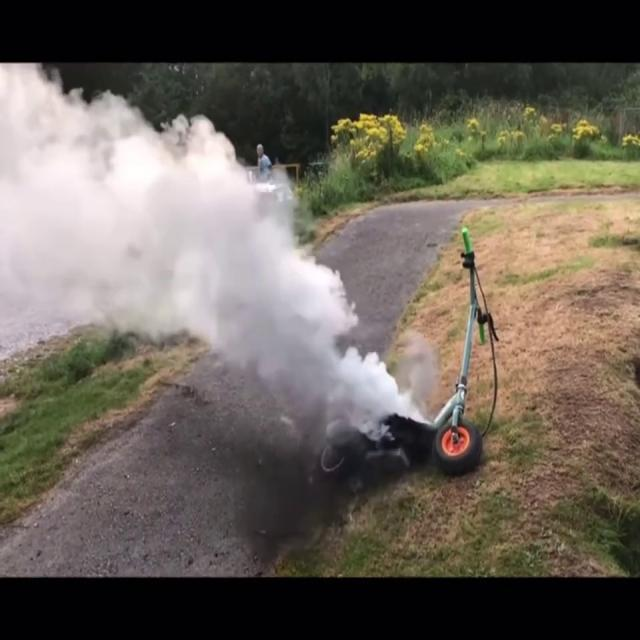Smoke: (1, 69, 230, 422), (160, 168, 393, 442)
